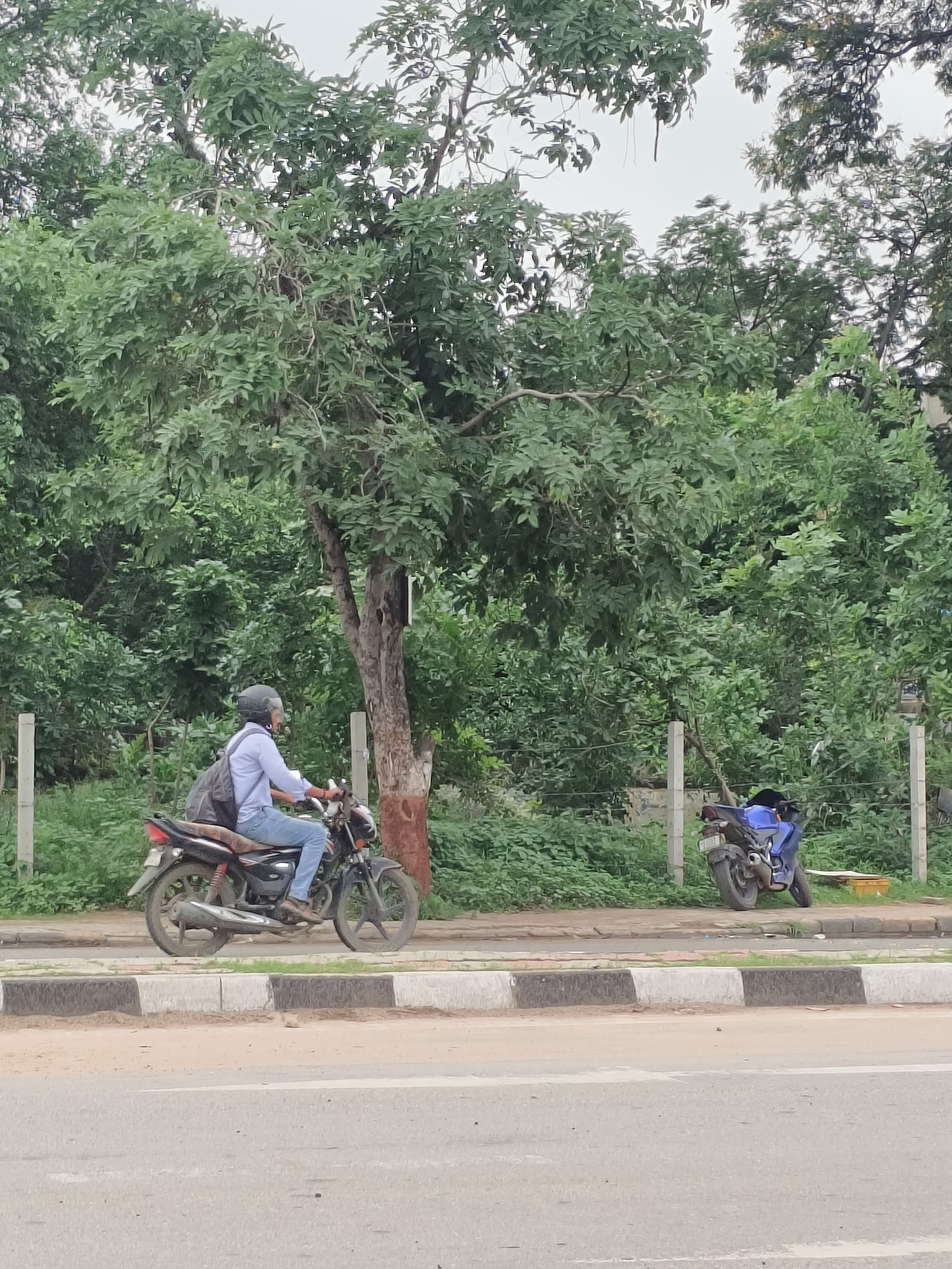BikeWithRider: (118, 676, 430, 965)
Helmet: (226, 677, 294, 741)
